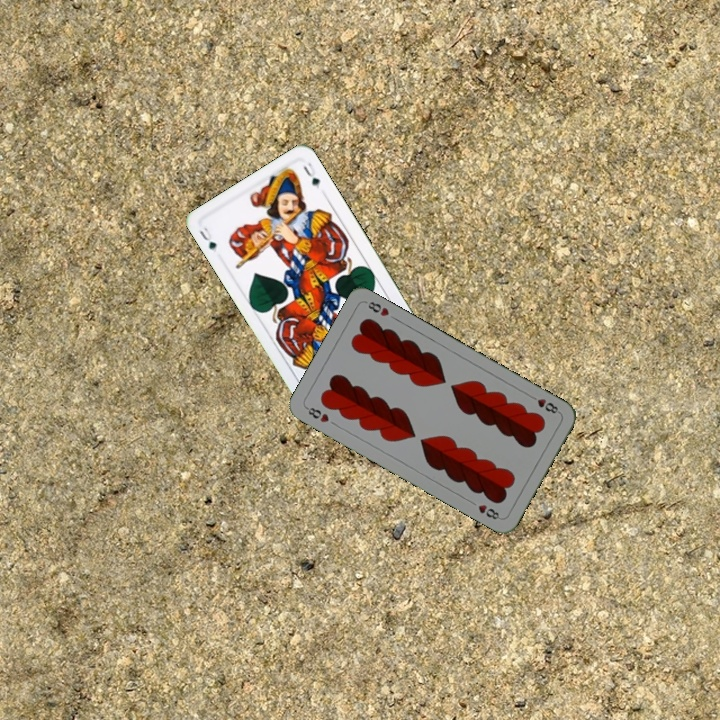GU: (195, 223, 219, 255)
H8: (525, 391, 563, 416), (302, 403, 332, 425)
